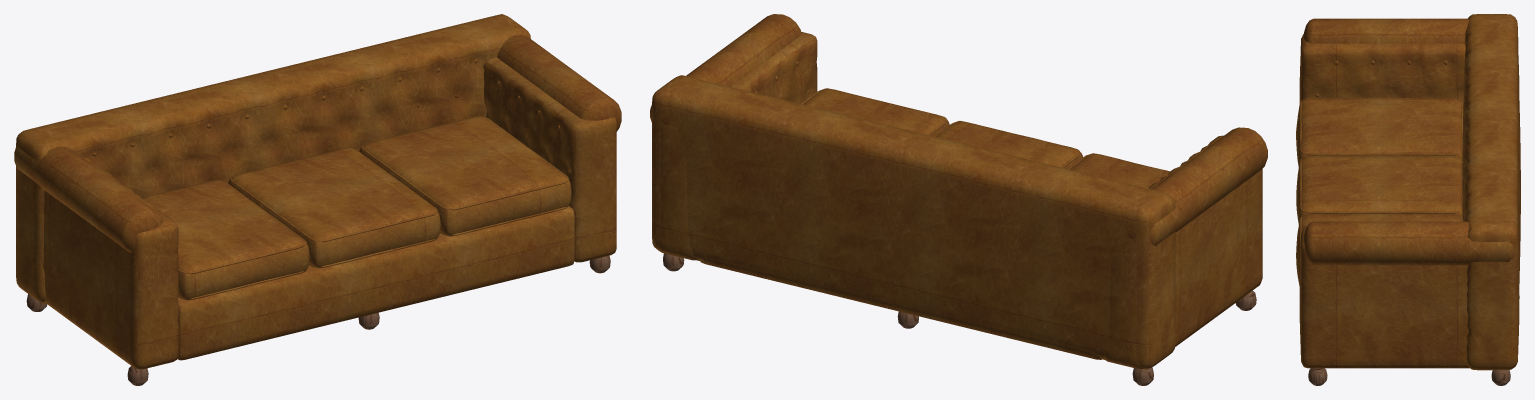
The model's file is sofa_capitone_3p.glb.
3 renders of one model, left to right at view 1: azimuth 30°, elevation 25°; view 2: azimuth 150°, elevation 25°; view 3: azimuth 270°, elevation 25°, orthographic. The views are drawn at different scales.
Visible parts, largest first — view 1: sofa_capitone_3p; view 2: sofa_capitone_3p; view 3: sofa_capitone_3p.
Part boxes in pixels (x1=…): sofa_capitone_3p: x1=14, y1=14, x2=621, y2=385; sofa_capitone_3p: x1=650, y1=14, x2=1267, y2=385; sofa_capitone_3p: x1=1296, y1=14, x2=1520, y2=385.
Bounding box in the file's own units: 2.17 × 0.748 × 0.9325.
Materials: 2 (2 with a texture image).
